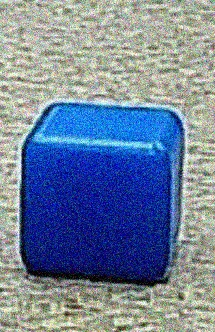blue_cube: (13, 86, 195, 311)
